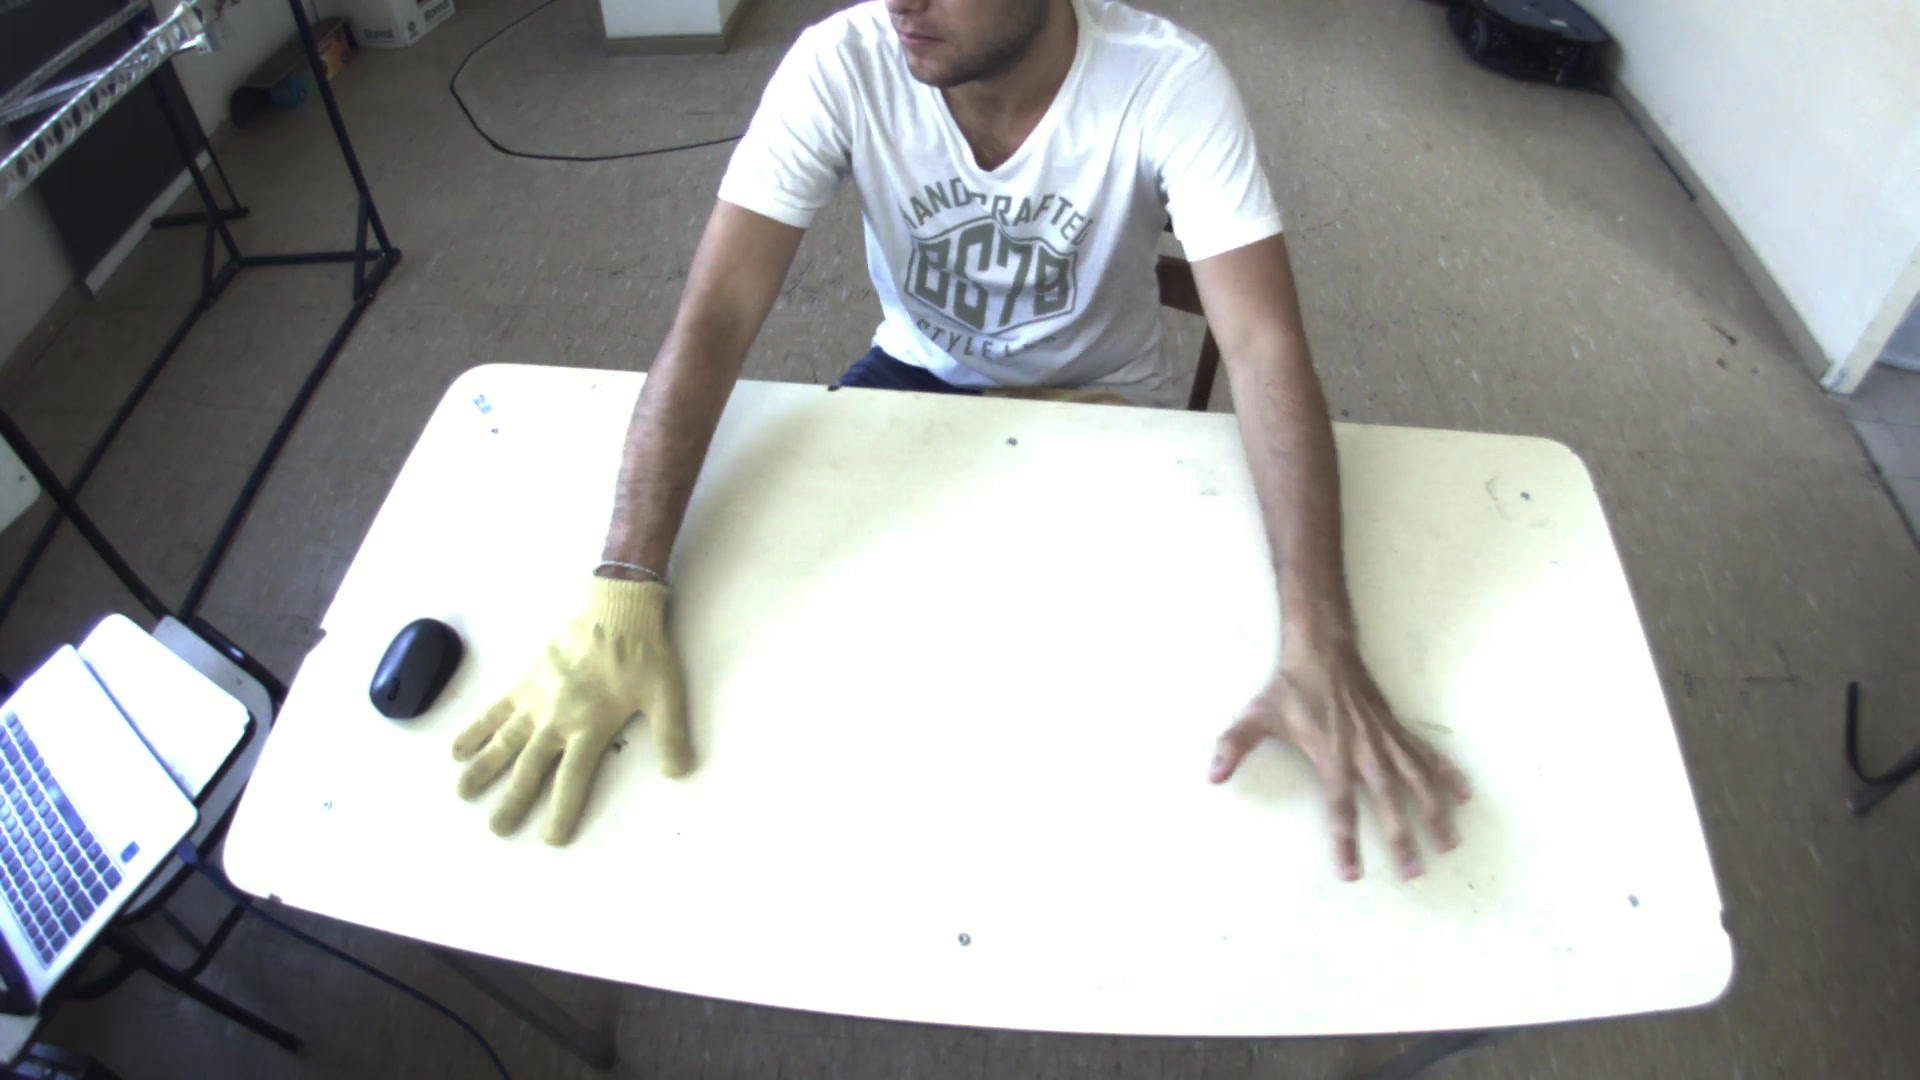hand: (1201, 593, 1495, 887), (431, 560, 700, 858)
